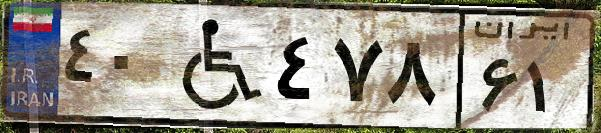0: (110, 28, 158, 98)
1: (525, 38, 570, 115)
4: (270, 28, 330, 110), (57, 26, 110, 100)
6: (475, 38, 525, 113)
7: (330, 28, 385, 110)
8: (385, 28, 445, 110)
ژ (معلولین و جانبازان): (158, 12, 270, 120)
